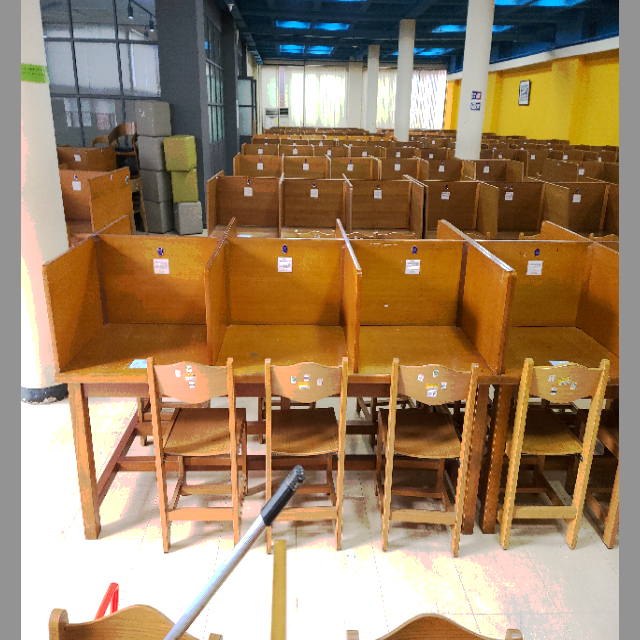empty: (50, 239, 210, 439), (216, 235, 363, 448), (370, 237, 503, 463)
